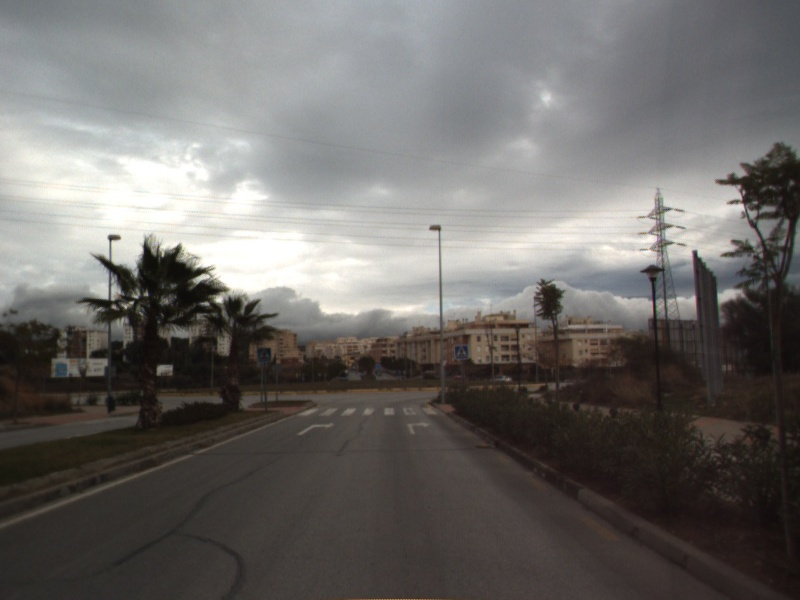RIGHT: (295, 420, 336, 437), (405, 419, 432, 436)
